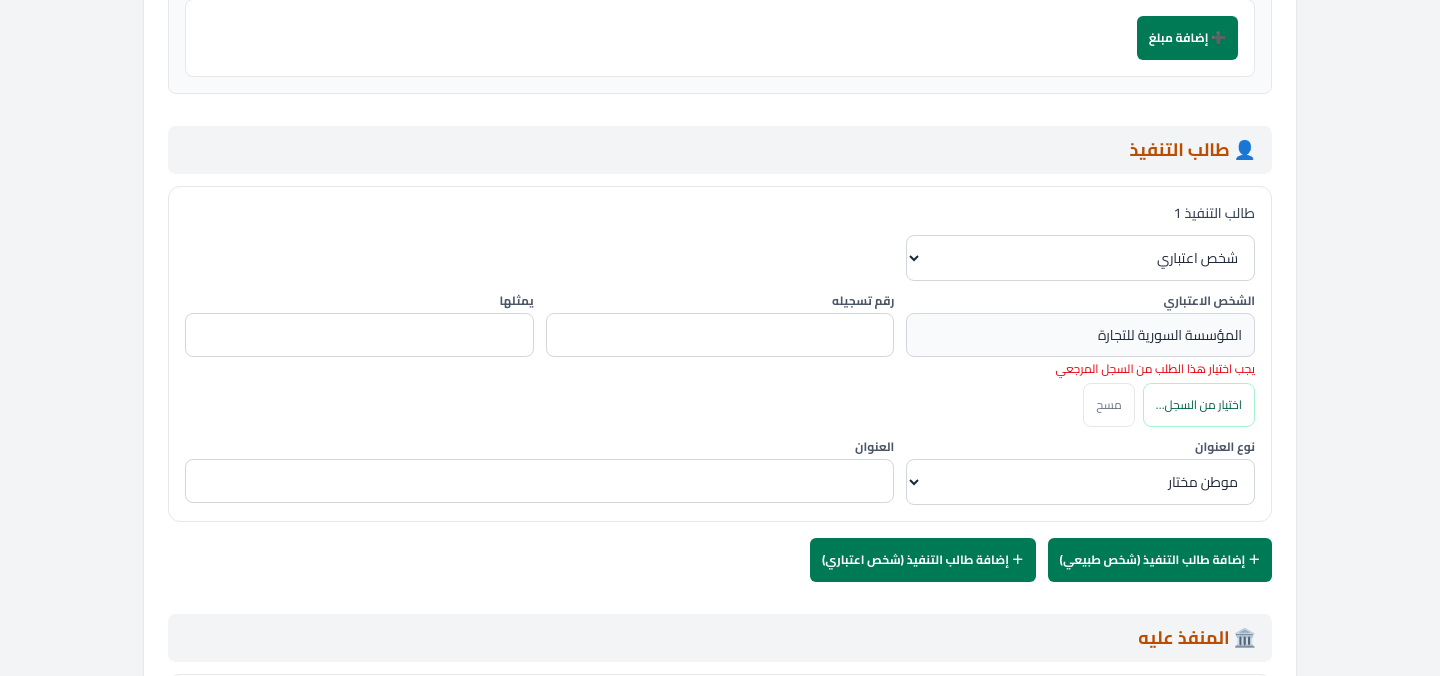
Test case: DocumentForm · ربط الأطراف بالسجل › يربط طالب تنفيذ اعتباري بقيد السجل عبر نافذة الاختيار ويملأ اسمه ورقم ربطه
The image size is (1440, 676).
(page scrolled)
Click the button "اختيار من السجل…" at [1199, 405], box left=1143, top=383, right=1255, bottom=427
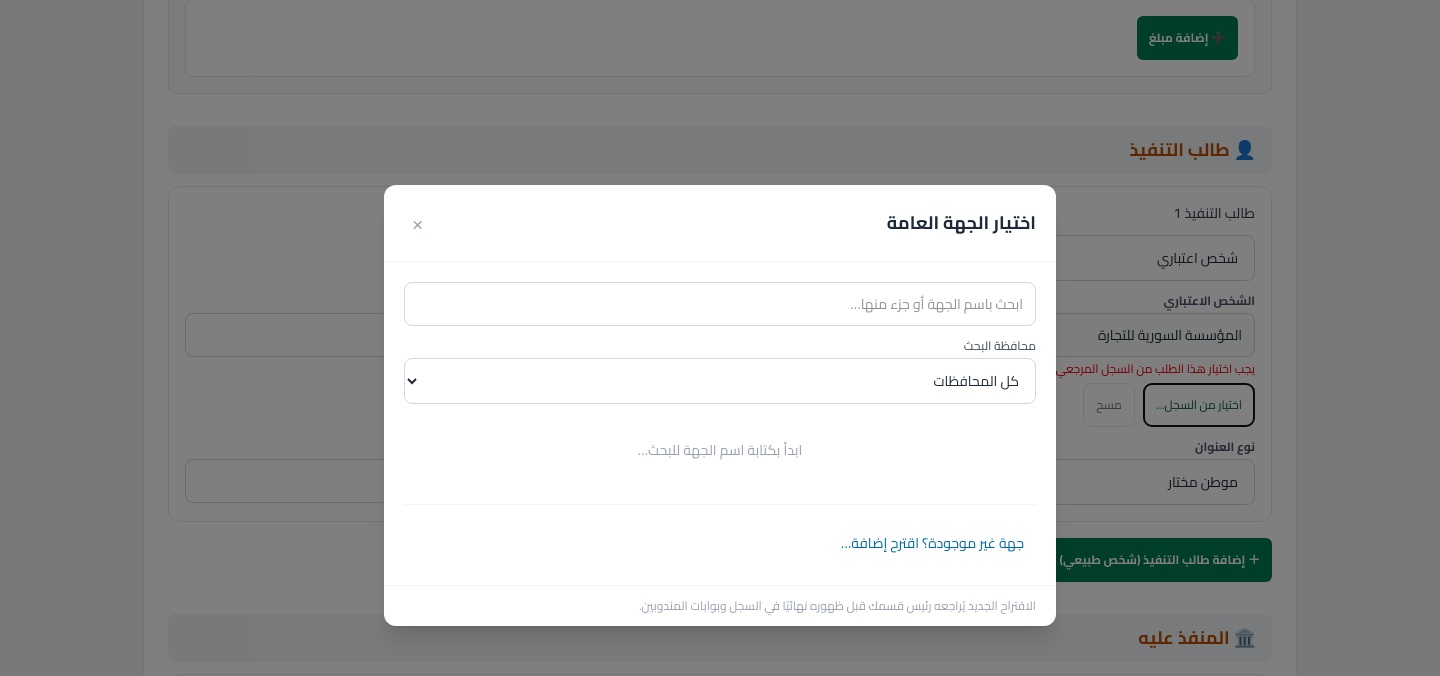
Type "هيئة" into the field labelled "بحث باسم الجهة" at [720, 304], box left=404, top=282, right=1036, bottom=326
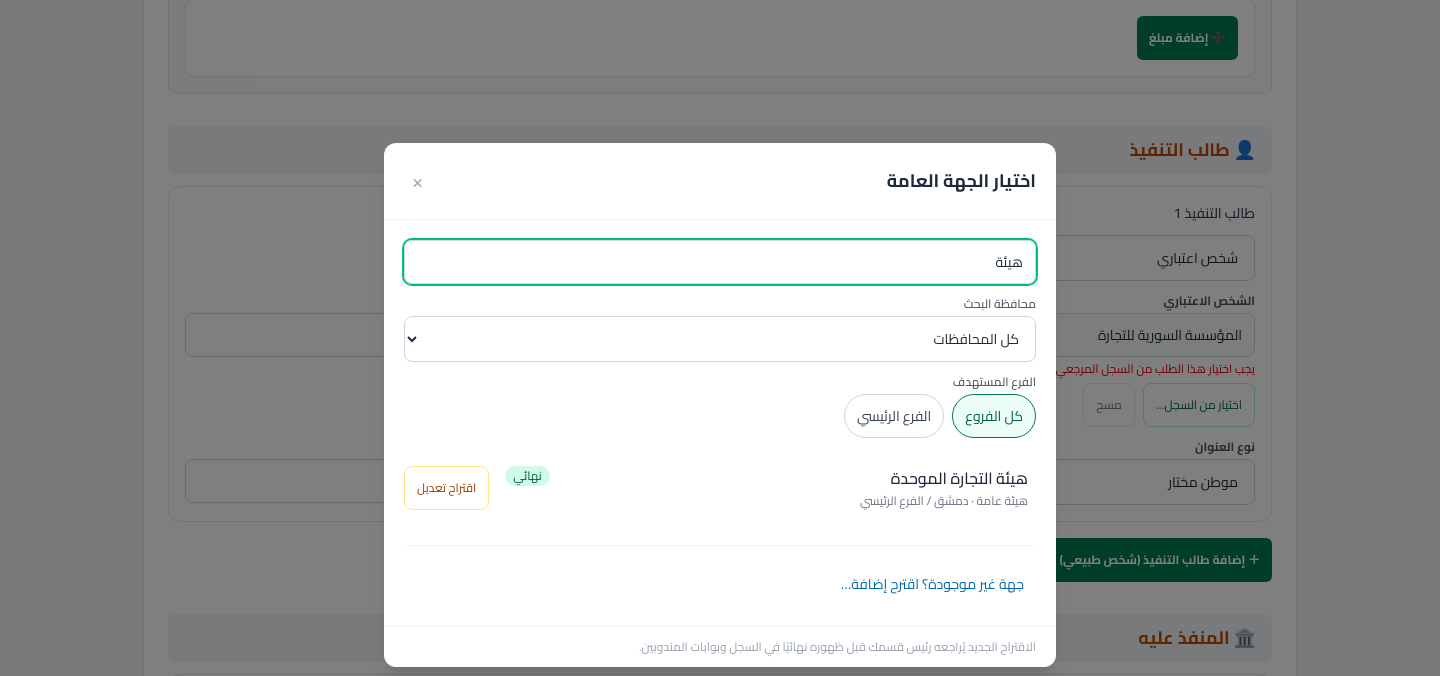
Click the button "هيئة التجارة الموحدة هيئة عامة · دمشق / الفرع الرئيسي نهائي" at [959, 478], box left=497, top=454, right=1036, bottom=521
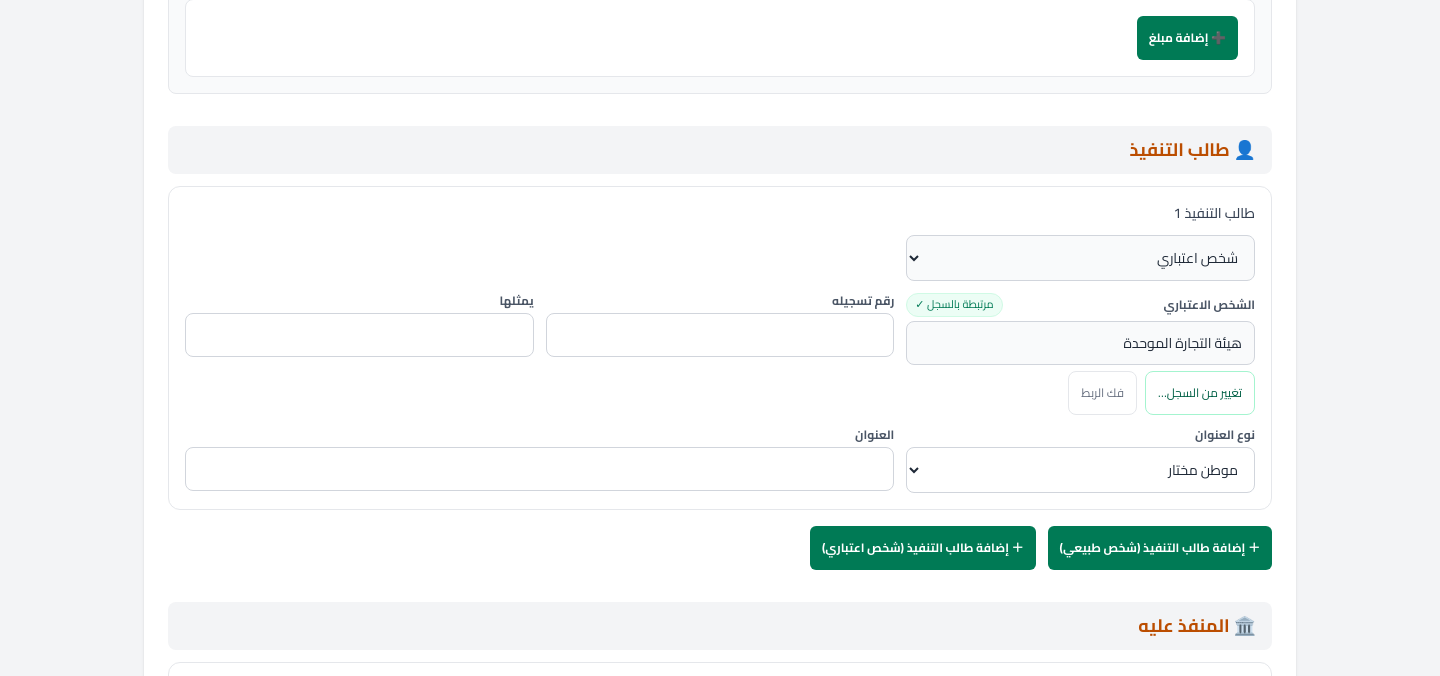
Expected: the text "مرتبطة بالسجل ✓" is shown, left=906, top=293, right=1002, bottom=317
Expected: the field named "الشخص الاعتباري" holds "هيئة التجارة الموحدة", left=906, top=321, right=1255, bottom=365
Expected: the heading "اختيار الجهة العامة" is gone
